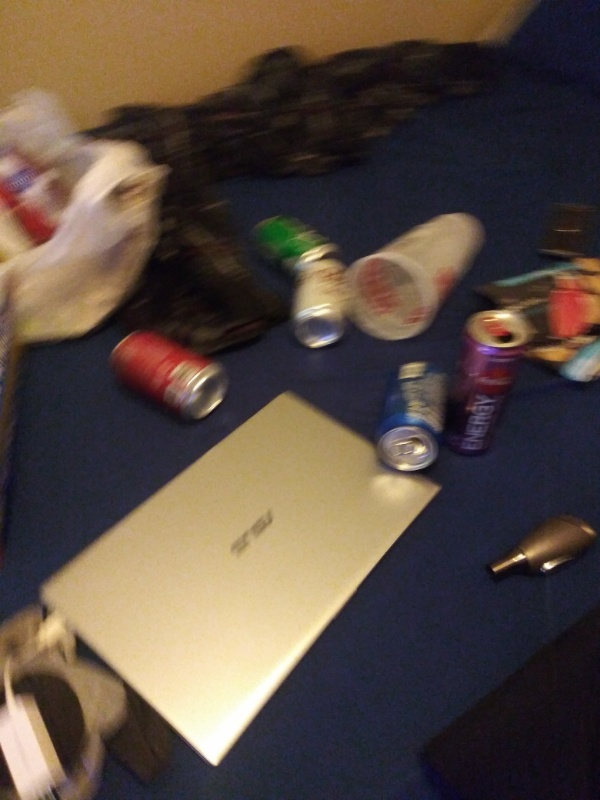can: (105, 327, 231, 424), (454, 307, 529, 459), (374, 358, 448, 473), (245, 212, 351, 278), (290, 258, 353, 353)
